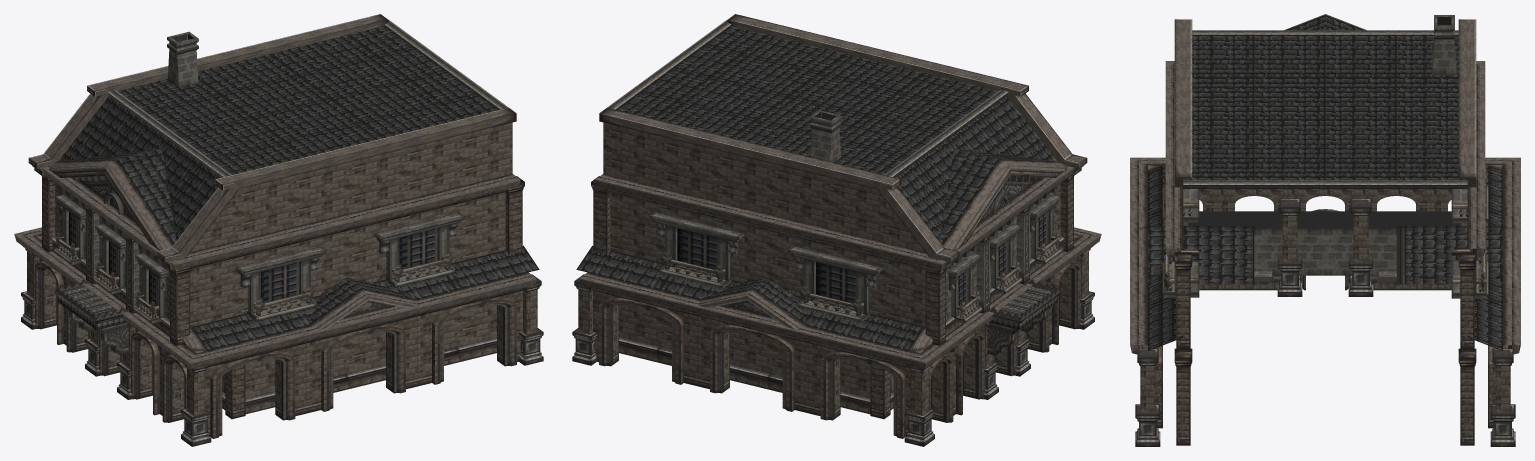
File: EnvBdgMD_Mansion_B_Outdoor.FBX
The picture shows the model from 3 angles, left to right: view 1: azimuth 30°, elevation 25°; view 2: azimuth 150°, elevation 25°; view 3: azimuth 270°, elevation 25°; orthographic projection. The views are drawn at different scales.
Visible parts, largest first — view 1: EnvBdgMD_Mansion_B_Outdoor; view 2: EnvBdgMD_Mansion_B_Outdoor; view 3: EnvBdgMD_Mansion_B_Outdoor.
Boxes of the visible parts, box(x1,y1,x2,y2) form: EnvBdgMD_Mansion_B_Outdoor: box(14, 14, 543, 446); EnvBdgMD_Mansion_B_Outdoor: box(572, 14, 1101, 446); EnvBdgMD_Mansion_B_Outdoor: box(1130, 14, 1520, 446).
Size of the model in its own units: 1390 by 950 by 1100.
1 material, 1 textured.
